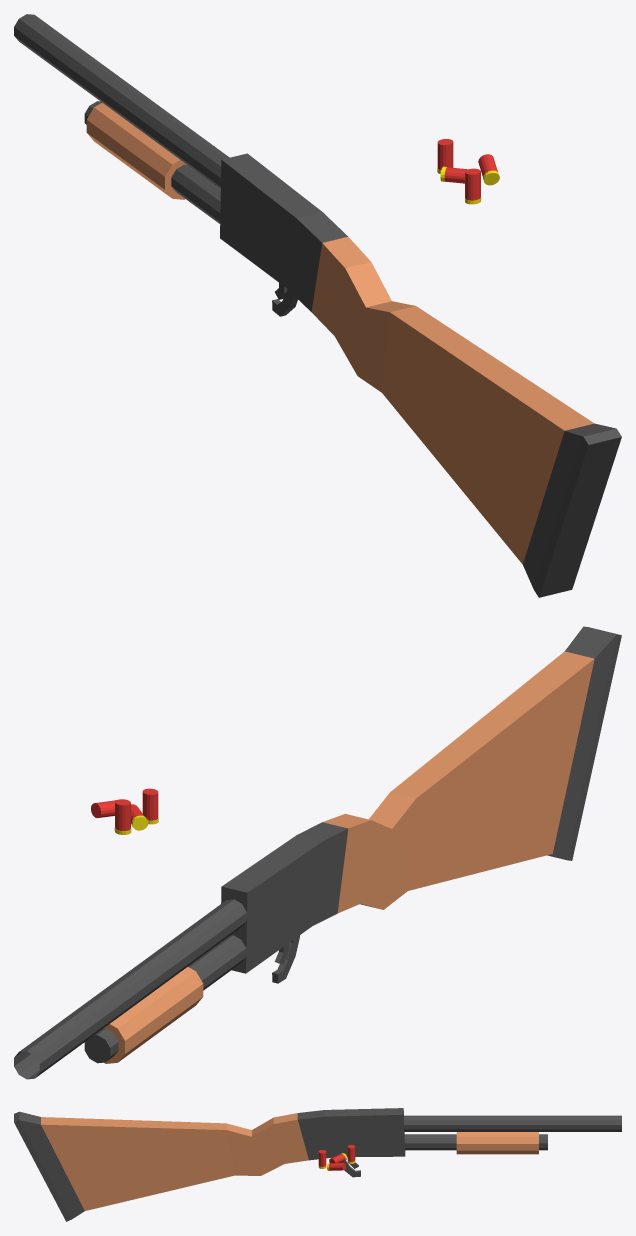
File: Shotgunblend.glb
3 renders of one model, top to bottom at view 1: azimuth 30°, elevation 25°; view 2: azimuth 150°, elevation 25°; view 3: azimuth 270°, elevation 25°, orthographic. The views are drawn at different scales.
Parts seen in each view (by area): view 1: Shotgun; view 2: Shotgun; view 3: Shotgun.
Boxes of the visible parts, x1=… form: Shotgun: x1=14, y1=14, x2=621, y2=597; Shotgun: x1=14, y1=626, x2=621, y2=1079; Shotgun: x1=14, y1=1108, x2=621, y2=1221.
Bounding box in the file's own units: 1.88 × 1.74 × 8.55.
